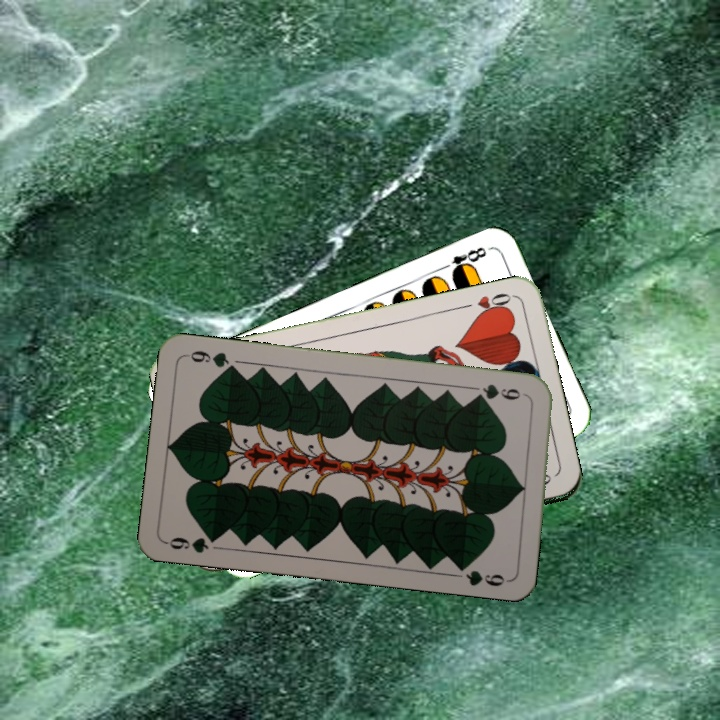E8: (437, 243, 489, 278)
G9: (162, 530, 222, 556), (470, 379, 523, 403)
HO: (457, 289, 515, 320)
